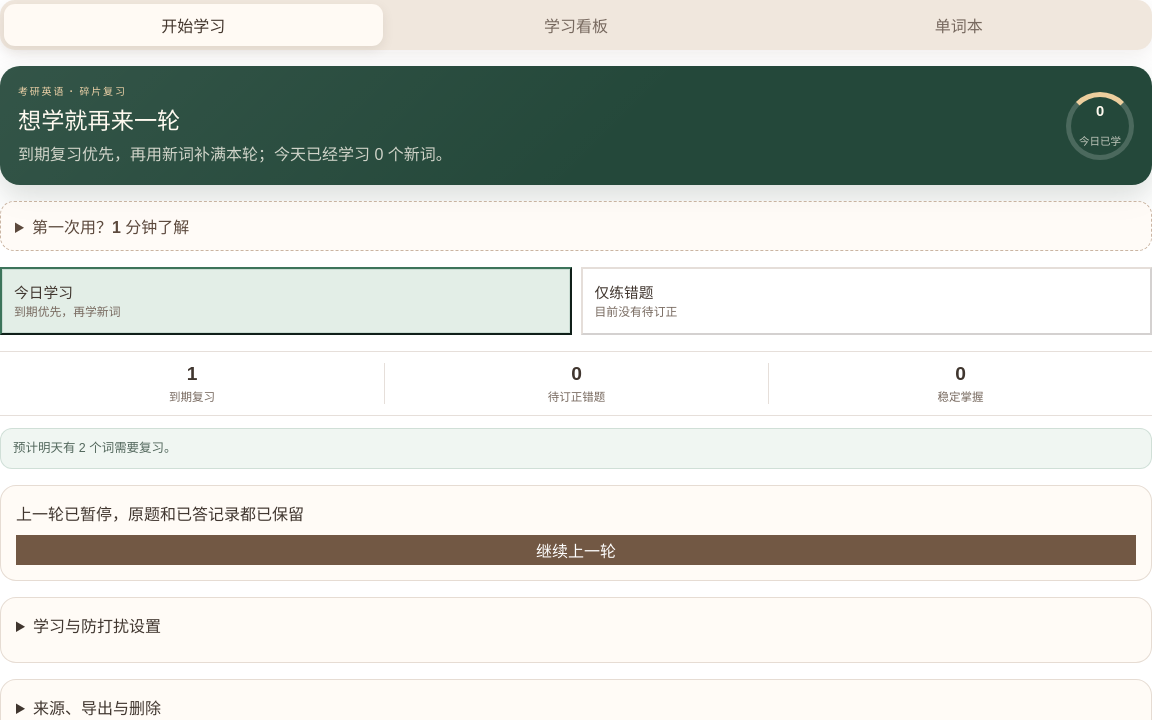
learning micro-session › offers a paused round and resumes the exact persisted revision
Click the button "继续上一轮": (576, 550) [16,535,1136,565]
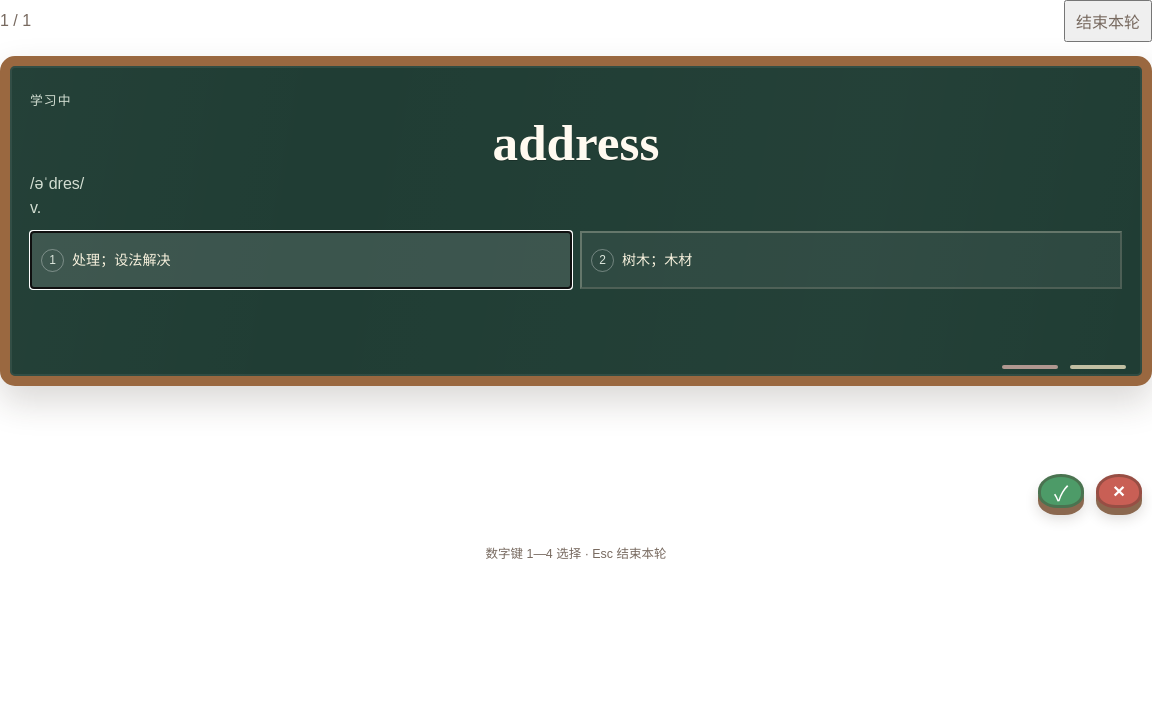
Expected: the text "address" is shown, [492,114,659,171]
